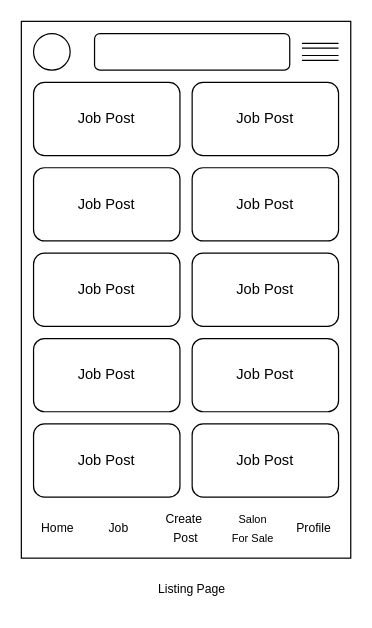
This 372x628 diagram has some shape labels left out. Here are the shapes that lost their labels. From the top down, the centre of each, then its label:
At [51,51]: "logo".
At [191,51]: "where?".
